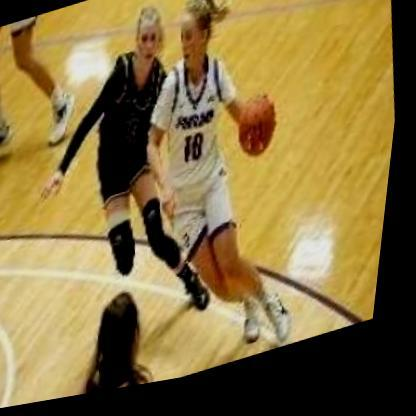basketball: (230, 97, 288, 176)
